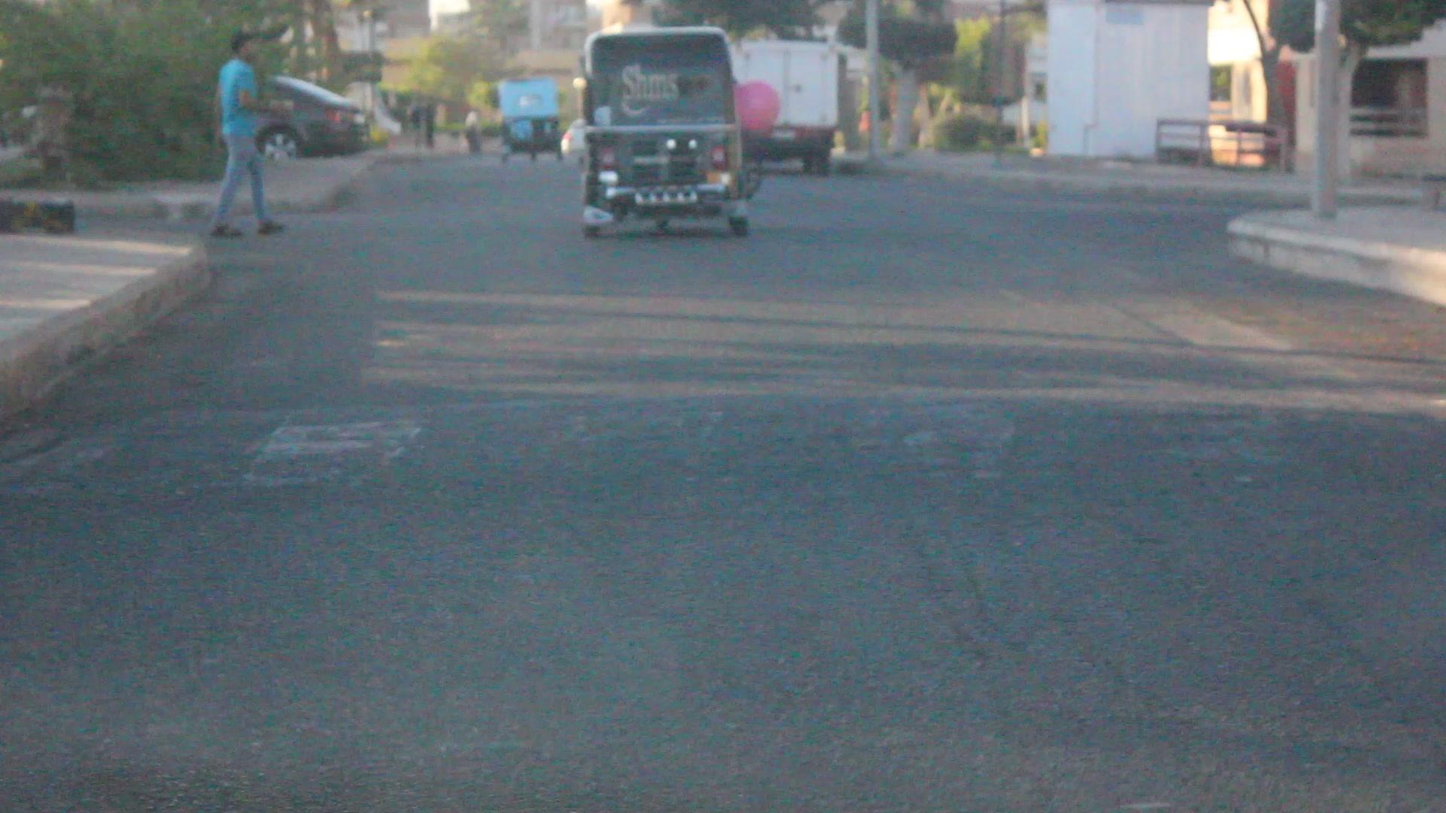Bump: (0, 391, 1446, 536)
